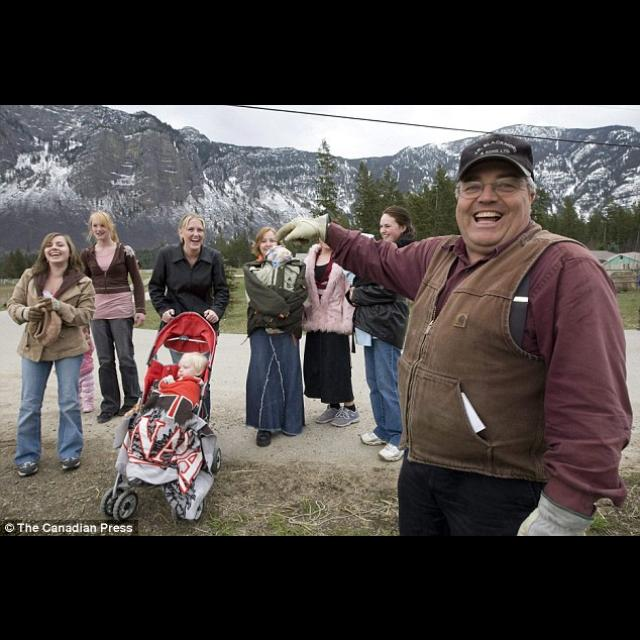head: (454, 152, 538, 254), (380, 206, 410, 244), (42, 231, 76, 263), (178, 212, 206, 250), (178, 352, 210, 380), (318, 218, 344, 250), (257, 226, 283, 256), (91, 210, 113, 242), (268, 246, 292, 270), (67, 300, 87, 322)
person: (5, 230, 99, 478), (112, 345, 228, 527), (343, 202, 422, 464), (148, 212, 232, 432), (76, 208, 150, 424), (240, 224, 310, 448), (294, 217, 362, 428), (47, 298, 99, 414), (243, 245, 307, 338), (0, 104, 2, 106)
